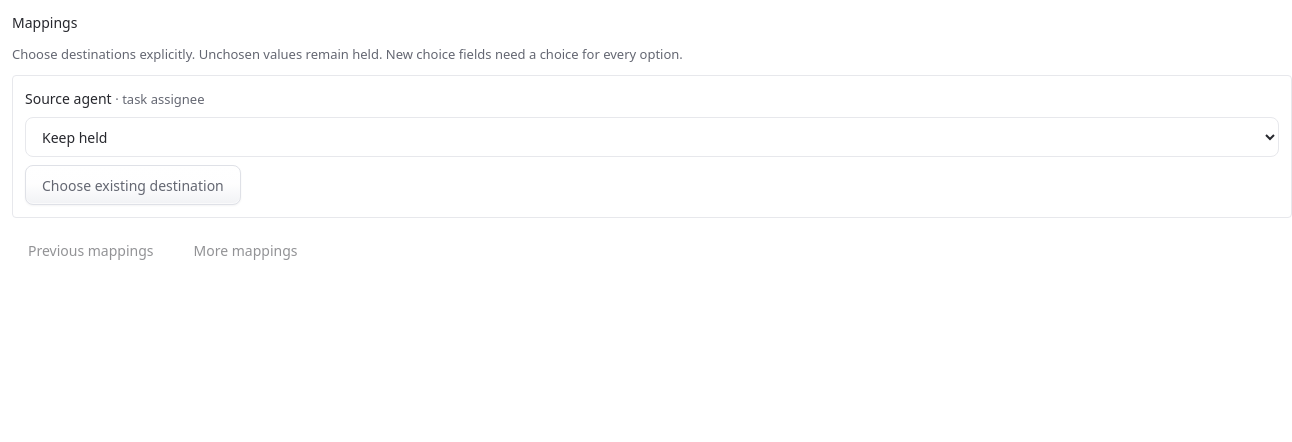
Test case: clears private destination labels and drafts after access changes
Click the button "Choose existing destination" at (133, 185), box left=25, top=165, right=241, bottom=205
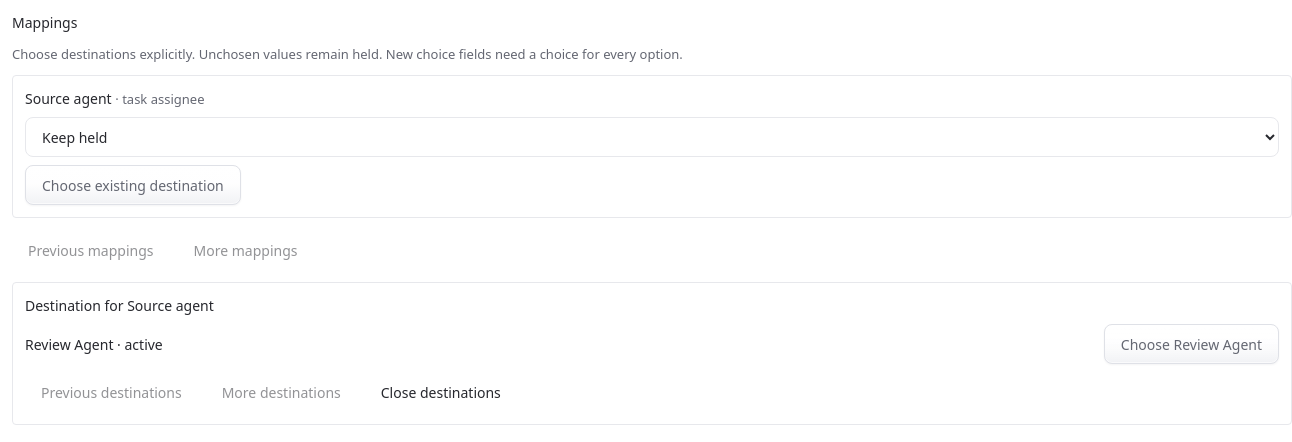
Check: the text "Review Agent" is shown, box left=25, top=334, right=163, bottom=354
